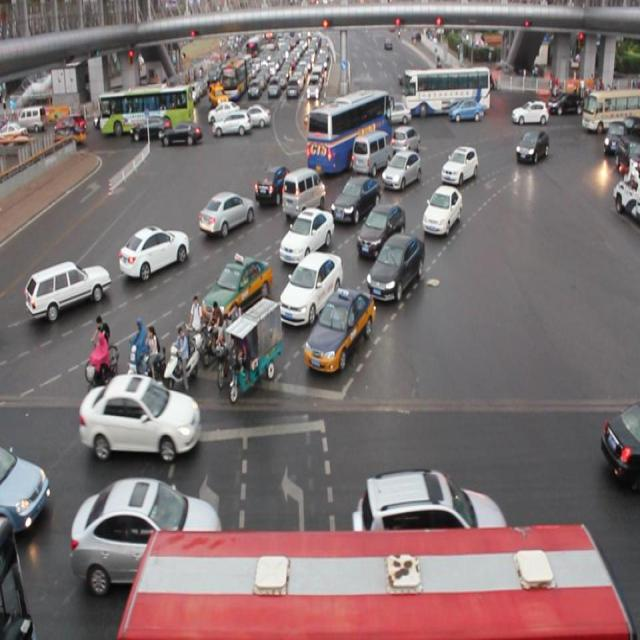car: (72, 475, 223, 590), (352, 465, 508, 553), (79, 376, 201, 458), (302, 290, 374, 377), (200, 252, 272, 336), (24, 261, 109, 322), (278, 250, 342, 327), (364, 231, 425, 305), (1, 440, 51, 527), (600, 394, 640, 496), (118, 226, 189, 279), (279, 209, 333, 265), (329, 176, 380, 226), (198, 192, 254, 236), (356, 206, 405, 256), (420, 183, 460, 238), (253, 167, 297, 206), (381, 148, 420, 191), (440, 143, 477, 183), (514, 126, 547, 166), (391, 126, 420, 158)
truck: (282, 166, 324, 213), (343, 137, 385, 182)
van: (118, 526, 631, 640), (306, 91, 392, 176), (1, 511, 36, 640)
